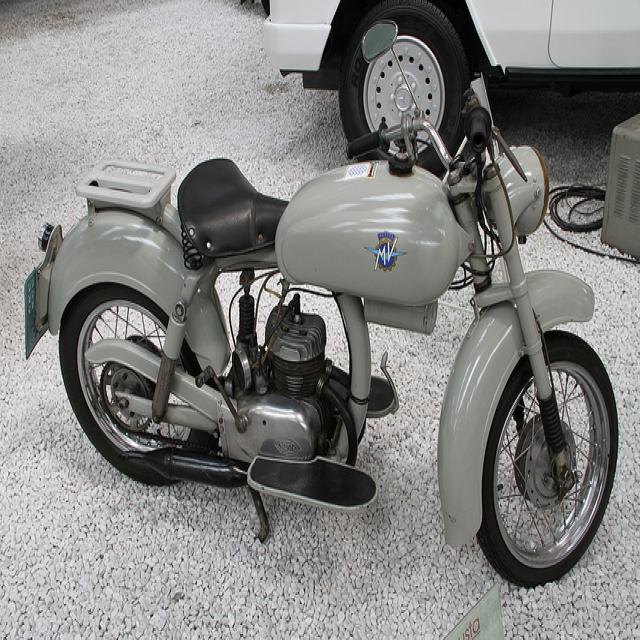motor: (20, 20, 621, 594)
